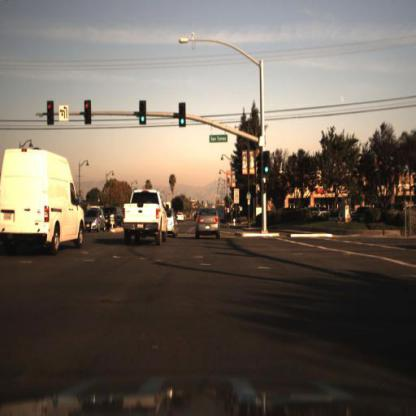car: (1, 141, 88, 262), (120, 181, 170, 251), (191, 203, 225, 247), (12, 189, 37, 232)
trafficLight: (83, 100, 91, 128)
trafficLight-Green: (137, 96, 151, 131), (176, 106, 190, 137), (261, 148, 273, 181), (178, 101, 188, 133), (140, 104, 148, 128), (262, 155, 269, 181)
trafficLight-RedLeft: (45, 98, 58, 136), (84, 98, 94, 133), (46, 98, 56, 124)
truck: (1, 149, 86, 260)
